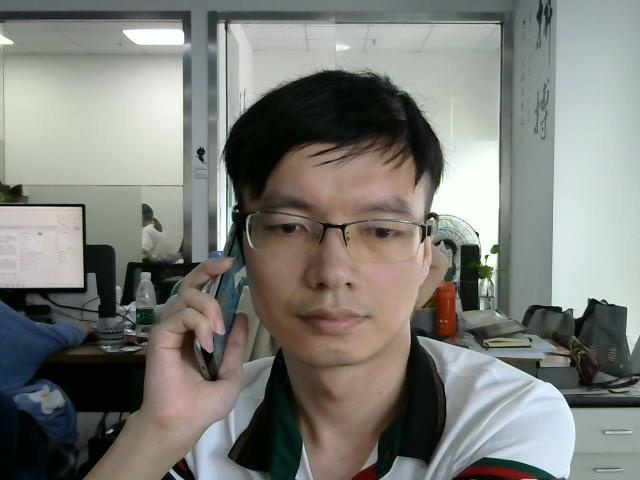hand: (148, 262, 248, 419)
